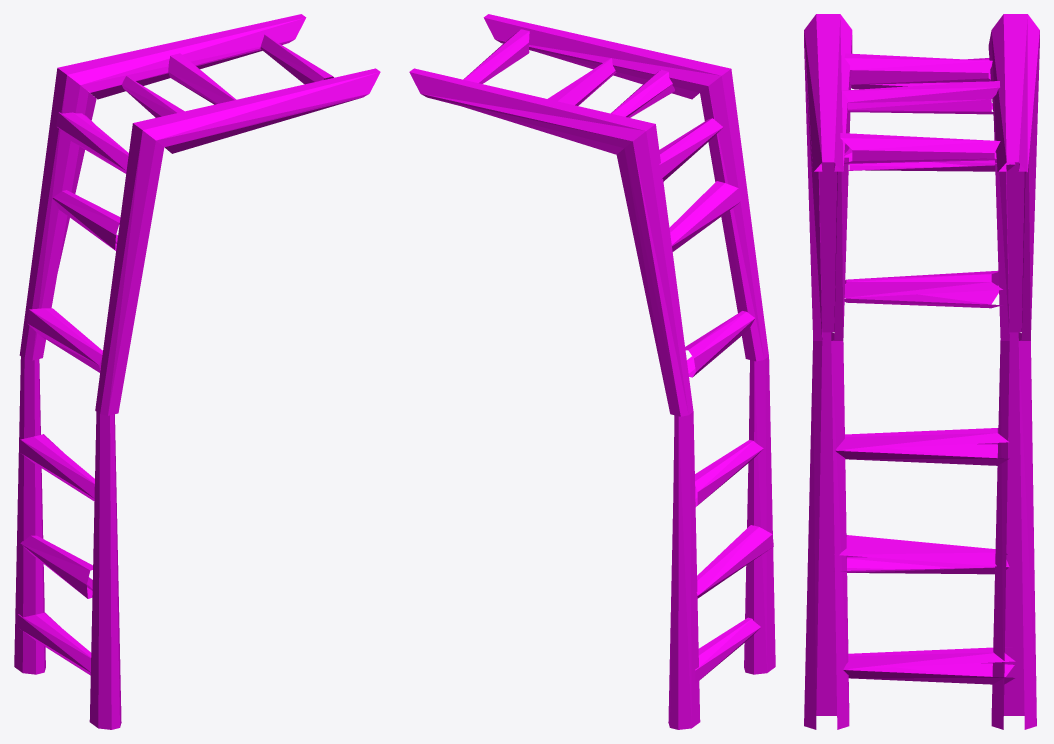
File: ropeladder.obj
The picture shows the model from 3 angles, left to right: view 1: azimuth 30°, elevation 25°; view 2: azimuth 150°, elevation 25°; view 3: azimuth 270°, elevation 25°; orthographic projection. The views are drawn at different scales.
Visible parts, largest first — view 1: ropeladder_back; view 2: ropeladder_back; view 3: ropeladder_back.
Boxes of the visible parts, x1,y1,x2,y2 form: ropeladder_back: [14, 14, 380, 729]; ropeladder_back: [409, 14, 775, 729]; ropeladder_back: [804, 14, 1039, 729].
Size of the model in its own units: 1.37 by 2.66 by 0.78.
